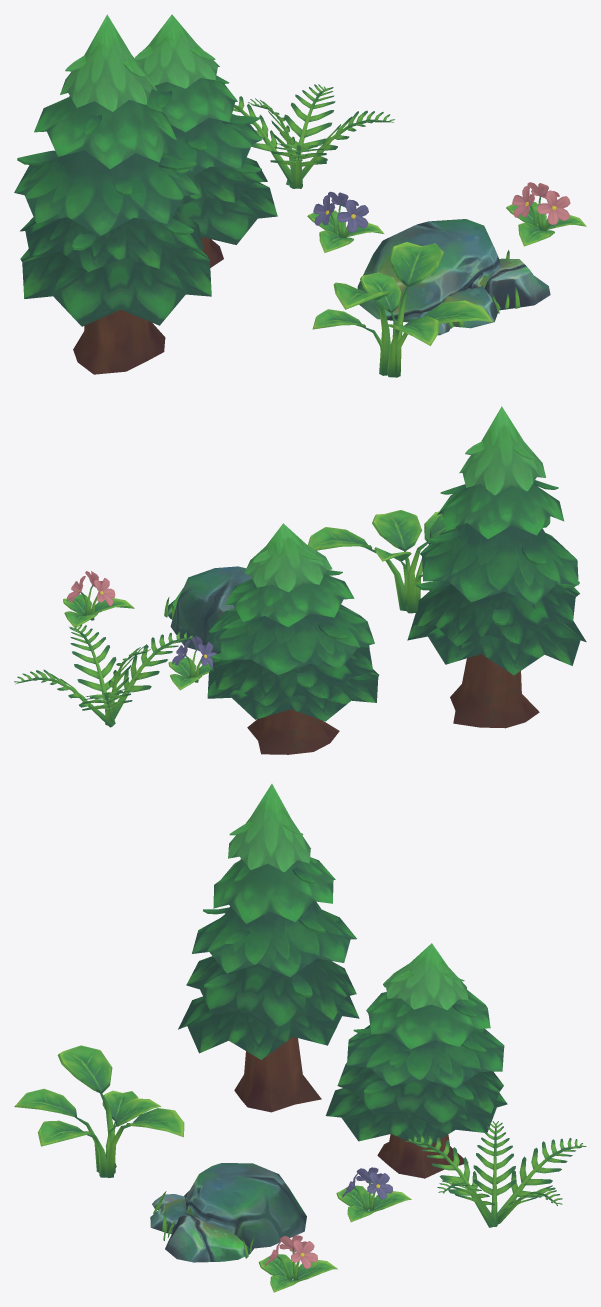
3 renders of one model, top to bottom at view 1: azimuth 30°, elevation 25°; view 2: azimuth 150°, elevation 25°; view 3: azimuth 270°, elevation 25°, orthographic. The views are drawn at different scales.
Visible parts, largest first — view 1: tree2, tree3, rock, plant1, fern, flower4, flower; view 2: tree2, tree3, plant1, fern, rock, flower4, flower; view 3: tree2, tree3, rock, plant1, fern, flower4, flower.
Boxes of the visible parts, <box> form: tree2: <box>14,14,211,374</box>; tree3: <box>134,14,277,267</box>; rock: <box>357,219,550,335</box>; plant1: <box>312,242,493,377</box>; fern: <box>233,84,390,188</box>; flower4: <box>506,182,586,246</box>; flower: <box>307,191,384,252</box>; tree2: <box>407,406,586,728</box>; tree3: <box>207,523,378,754</box>; plant1: <box>308,510,455,613</box>; fern: <box>14,624,195,727</box>; rock: <box>167,566,251,653</box>; flower4: <box>63,571,134,627</box>; flower: <box>168,635,216,690</box>; tree2: <box>178,784,359,1112</box>; tree3: <box>325,943,507,1178</box>; rock: <box>150,1163,306,1262</box>; plant1: <box>14,1045,184,1177</box>; fern: <box>405,1121,586,1227</box>; flower4: <box>258,1235,337,1292</box>; flower: <box>336,1167,411,1222</box>.
Size of the model in its own units: 88.32 by 51.8 by 86.6.
Materials: 1 (1 with a texture image).
